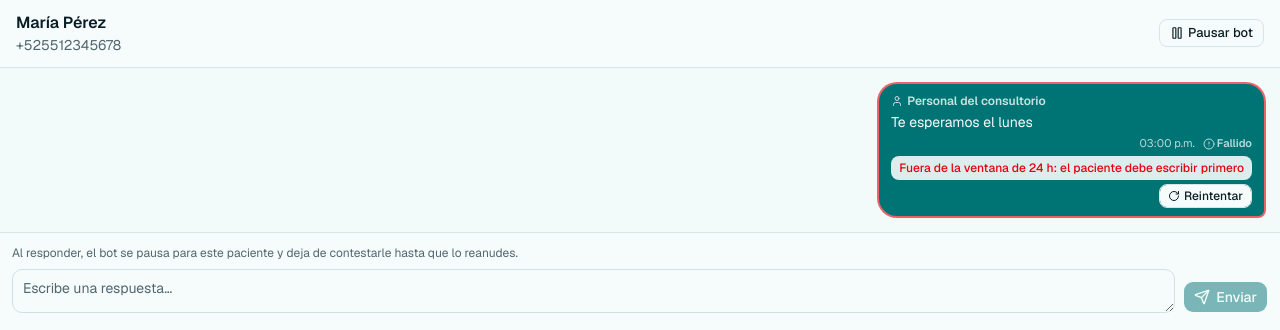
Scenario: ConversationThread: reintentar mensajes fallidos › reintenta con el id del mensaje, recarga el hilo y avisa
Click the button "Reintentar". click: (1206, 196)
box: [1159,184,1252,208]
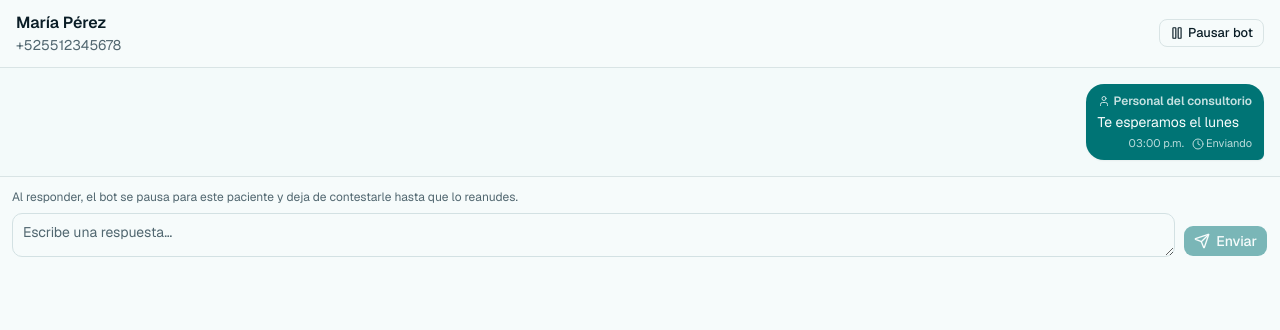
Check: the button "Reintentar" is gone
Check: the text "Enviando" is shown, box [1192,136,1252,152]
